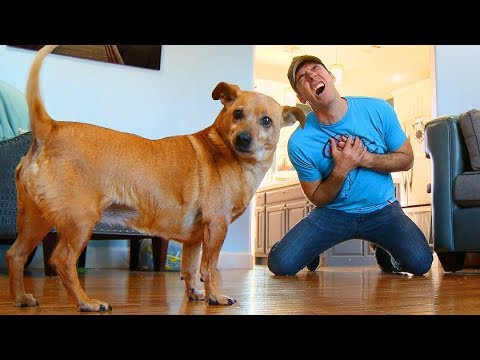dog: (7, 44, 295, 314)
